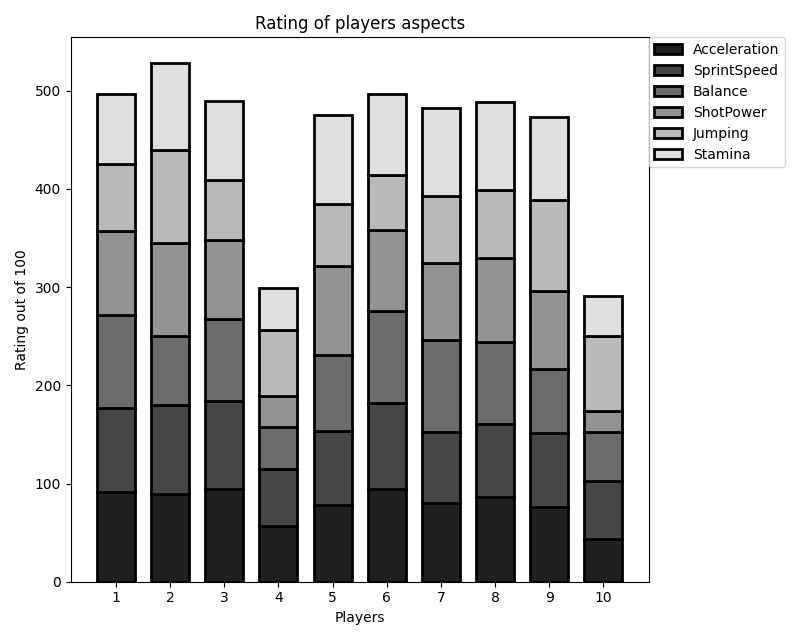canvas: (87, 51, 636, 583)
legend: (652, 39, 781, 164)
title: (247, 11, 471, 35)
x-axis: (63, 580, 657, 589)
x-labels: (105, 590, 619, 604)
x-title: (327, 609, 393, 628)
y-axis: (64, 32, 78, 585)
y-labels: (32, 59, 63, 593)
y-title: (9, 242, 32, 378)
